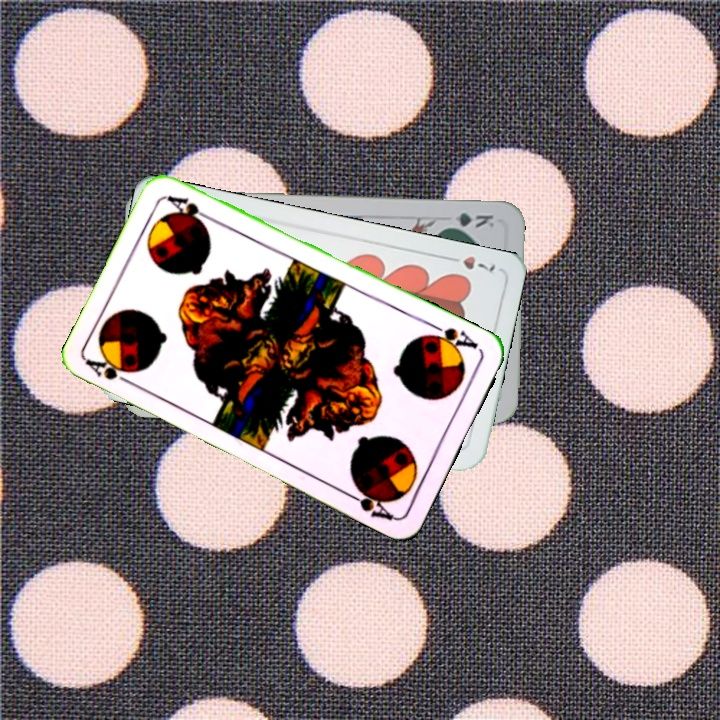GK: (440, 208, 497, 231)
H7: (442, 252, 498, 274)
SA: (421, 319, 481, 356), (83, 356, 139, 390)
